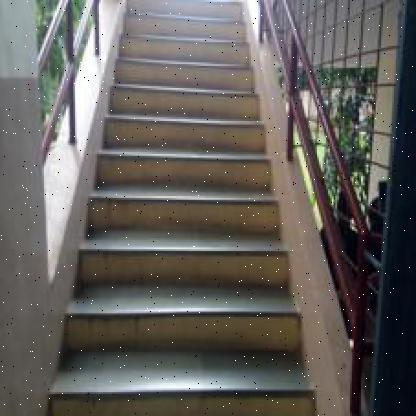stair_up: (52, 187, 312, 399)
